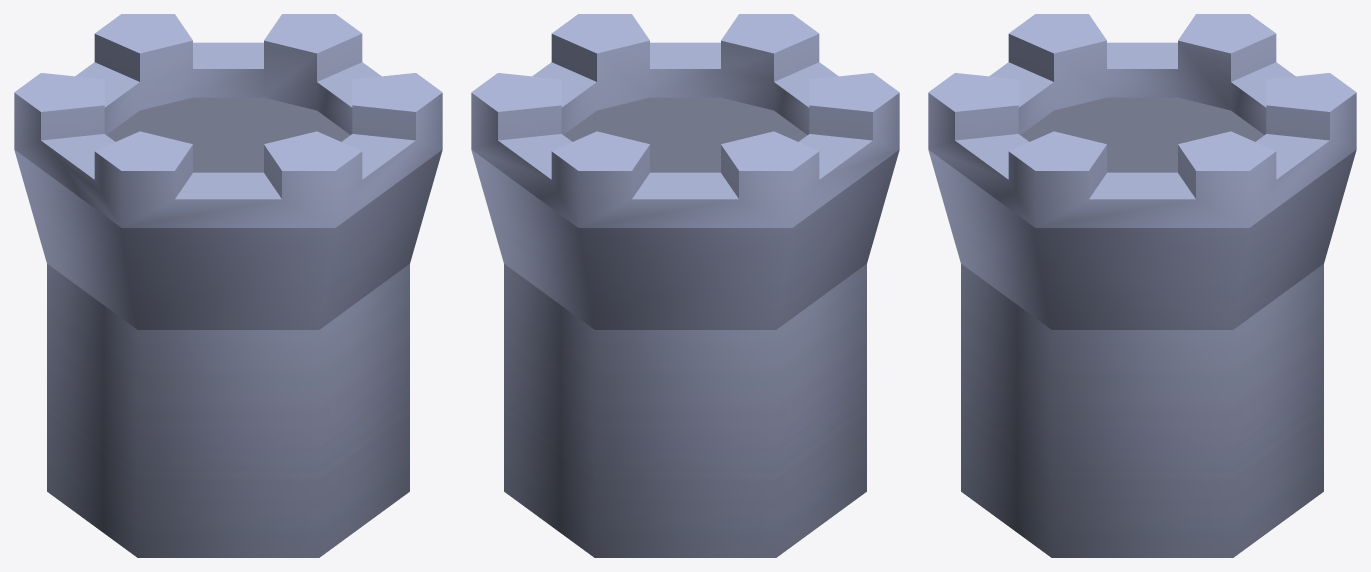
The model's file is kenney-hexagon-unit-wall-tower.glb.
3 renders of one model, left to right at view 1: azimuth 30°, elevation 25°; view 2: azimuth 150°, elevation 25°; view 3: azimuth 270°, elevation 25°, orthographic.
Visible parts, largest first — view 1: unit_wall_tower; view 2: unit_wall_tower; view 3: unit_wall_tower.
Boxes of the visible parts, bbox=[...] form: unit_wall_tower: bbox=[14, 14, 442, 557]; unit_wall_tower: bbox=[471, 14, 899, 557]; unit_wall_tower: bbox=[928, 14, 1356, 557].
Bounding box in the file's own units: 0.295 × 0.35 × 0.3406.
Materials: 1 (1 with a texture image).
